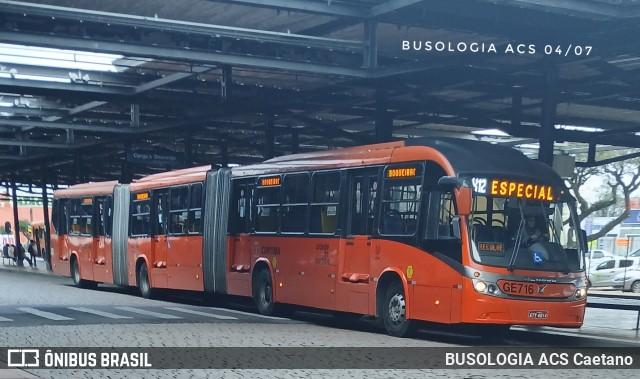ESPECIAL: (488, 176, 556, 205)
